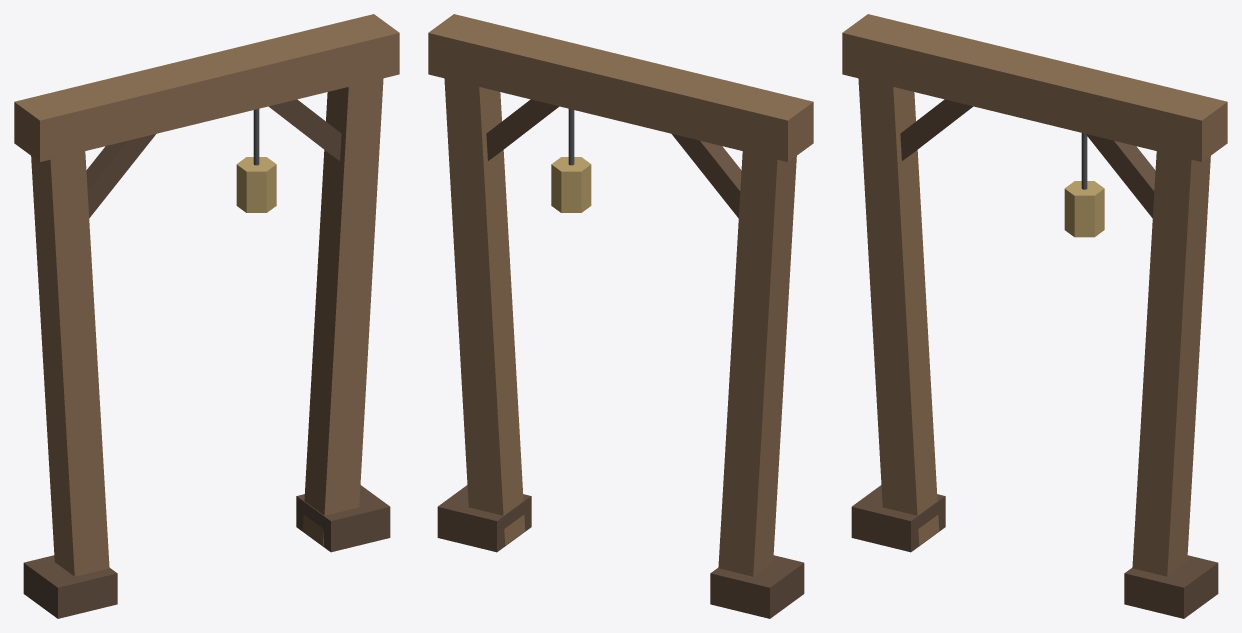
File: timber_frame.glb
The picture shows the model from 3 angles, left to right: view 1: azimuth 30°, elevation 25°; view 2: azimuth 150°, elevation 25°; view 3: azimuth 330°, elevation 25°; orthographic projection.
Visible parts, largest first — view 1: timber_frame; view 2: timber_frame; view 3: timber_frame.
Boxes of the visible parts, left/top/right/bottom form: timber_frame: left=14, top=14, right=399, bottom=618; timber_frame: left=428, top=14, right=813, bottom=618; timber_frame: left=842, top=14, right=1227, bottom=618.
Bounding box in the file's own units: 1.45 × 1.92 × 0.24.
